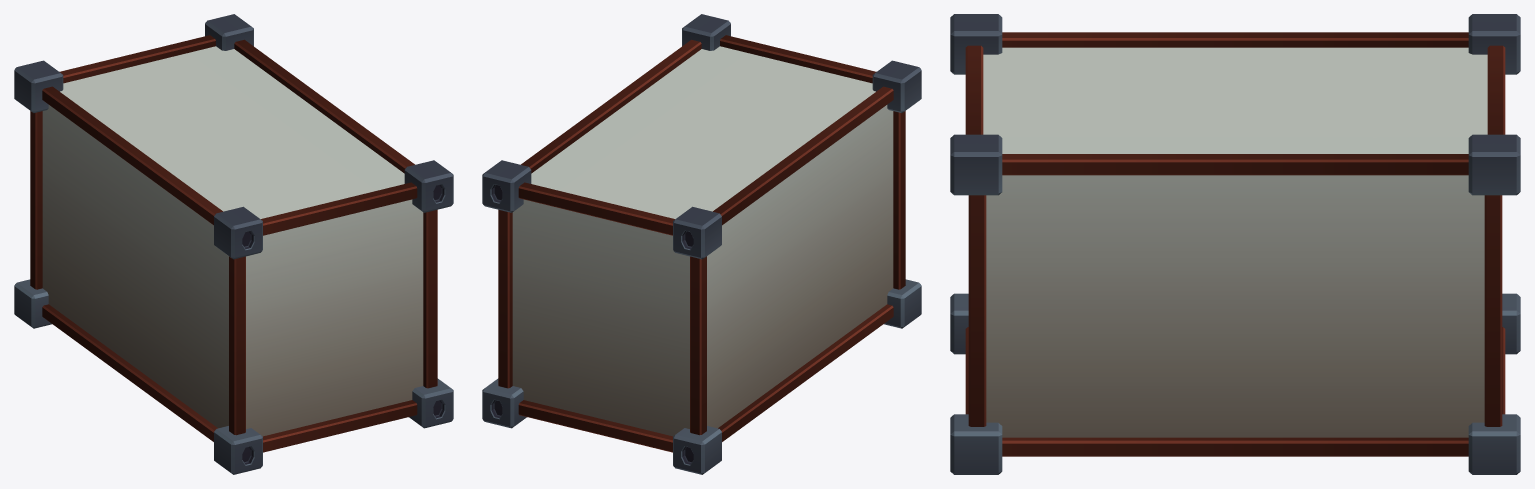
File: sp_build_wall_part2a.fbx
The picture shows the model from 3 angles, left to right: view 1: azimuth 30°, elevation 25°; view 2: azimuth 150°, elevation 25°; view 3: azimuth 270°, elevation 25°; orthographic projection. The views are drawn at different scales.
Parts seen in each view (by area): view 1: wall_part2a; view 2: wall_part2a; view 3: wall_part2a.
Boxes of the visible parts, box(x1,y1,x2,y2) form: wall_part2a: box(14, 14, 453, 474); wall_part2a: box(482, 14, 921, 474); wall_part2a: box(950, 14, 1520, 474).
Size of the model in its own units: 292 by 312 by 499.
